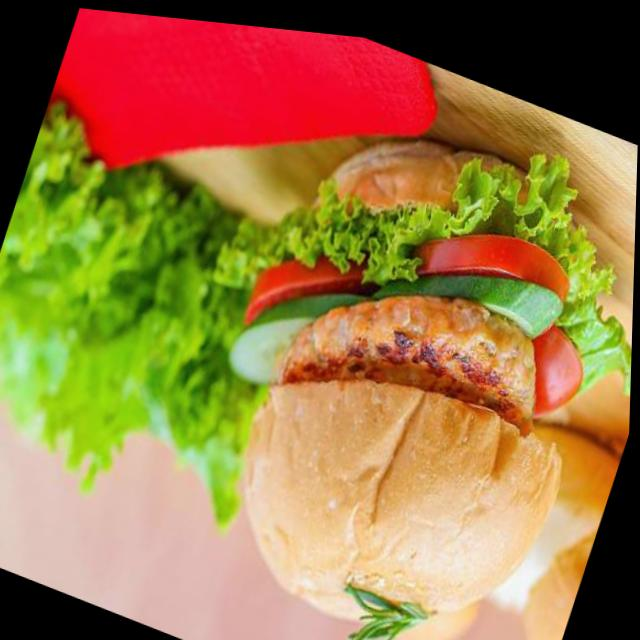burger: (162, 62, 639, 640)
